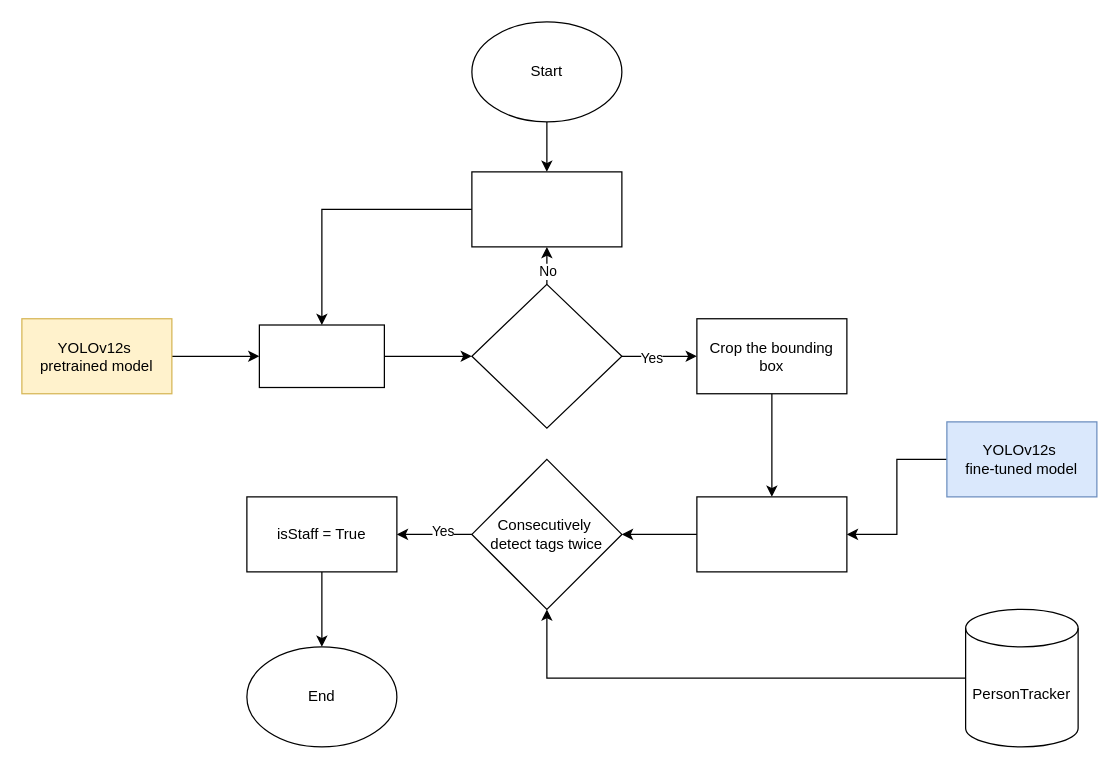
Image size: 1119x769. Some labels were removed from this diagram. Here are the shapes that lost their labels. From the top down, the centre of each, then its label:
the point at 546,209: Input Video
the point at 321,356: Person Detection
the point at 546,355: If human is detected
the point at 771,534: Tag Detection
